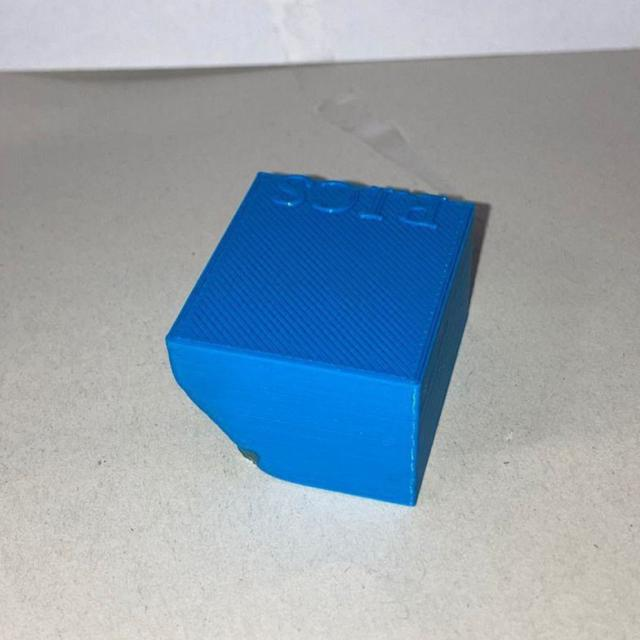Warping: (183, 384, 272, 470)
